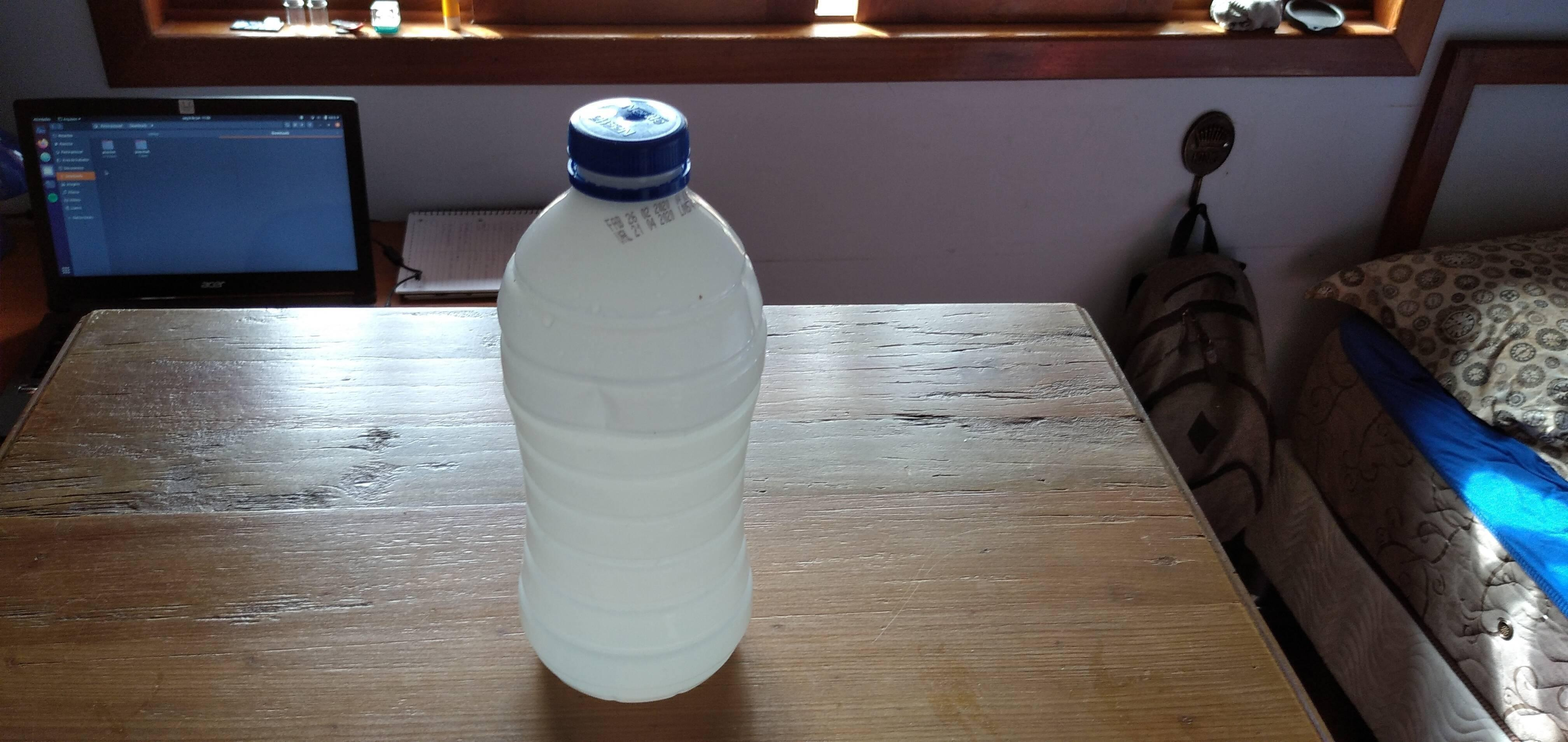bottle-plastic: (492, 79, 774, 708)
